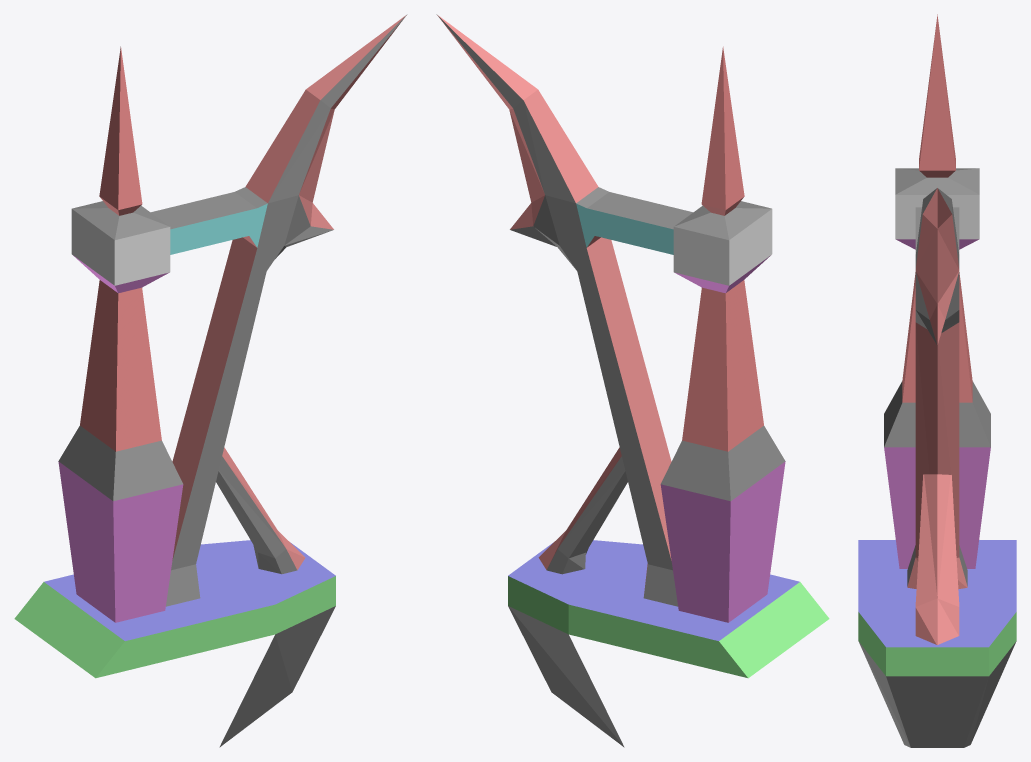
File: O_DE_Pir01.gltf
3 views of the same model, side by side, from view 1: azimuth 30°, elevation 25°; view 2: azimuth 150°, elevation 25°; view 3: azimuth 270°, elevation 25° (orthographic). The views are drawn at different scales.
Visible parts, largest first — view 1: O_DE_Pir01; view 2: O_DE_Pir01; view 3: O_DE_Pir01.
Part boxes in pixels (left/top/right/bottom): O_DE_Pir01: left=14, top=14, right=407, bottom=747; O_DE_Pir01: left=436, top=14, right=829, bottom=747; O_DE_Pir01: left=858, top=14, right=1016, bottom=747.
Size of the model in its own units: 6.84 by 13.15 by 2.73.
